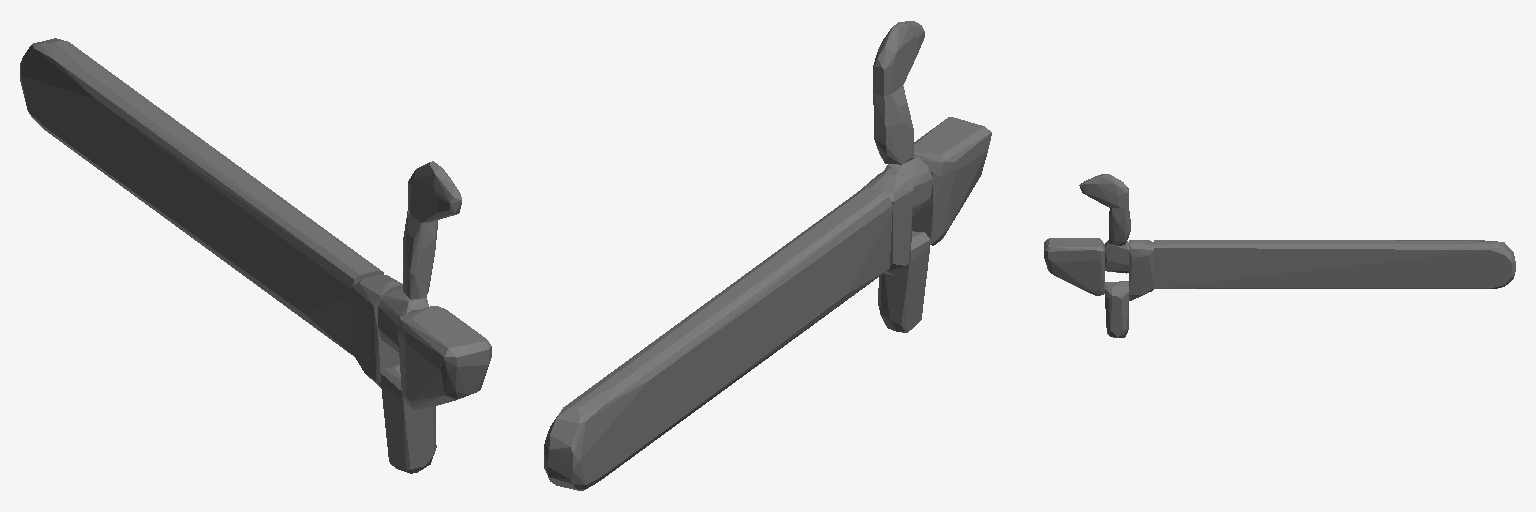
URDF robot description (wrench_007):
<?xml version="1.0" ?>
<robot name="wrench_007">
  <material name="color">
    <color rgba=".5 .5 .5 1"/>
  </material>

  <link name="base_link">
    <contact>
      <lateral_friction value="1.0"/>
      <rolling_friction value="0.001"/>
      <spinning_friction value="0.001"/>
      <inertia_scaling value="1.0"/>
    </contact>
    <inertial>
      <origin rpy="0 0 0" xyz="0.00054258 -0.00864907 -0.00467335"/>
       <mass value="0.1"/>
       <inertia ixx="1" ixy="0" ixz="0" iyy="1" iyz="0" izz="1"/>
    </inertial>

    <visual>
      <origin rpy="0 0 0" xyz="0 0 0"/>
      <geometry>
        <mesh filename="wrench_007_vhacd_0_of_7.obj" scale="1 1 1"/>
      </geometry>
      <material name="color"/>
    </visual>
    <visual>
      <origin rpy="0 0 0" xyz="0 0 0"/>
      <geometry>
        <mesh filename="wrench_007_vhacd_1_of_7.obj" scale="1 1 1"/>
      </geometry>
      <material name="color"/>
    </visual>
    <visual>
      <origin rpy="0 0 0" xyz="0 0 0"/>
      <geometry>
        <mesh filename="wrench_007_vhacd_2_of_7.obj" scale="1 1 1"/>
      </geometry>
      <material name="color"/>
    </visual>
    <visual>
      <origin rpy="0 0 0" xyz="0 0 0"/>
      <geometry>
        <mesh filename="wrench_007_vhacd_3_of_7.obj" scale="1 1 1"/>
      </geometry>
      <material name="color"/>
    </visual>
    <visual>
      <origin rpy="0 0 0" xyz="0 0 0"/>
      <geometry>
        <mesh filename="wrench_007_vhacd_4_of_7.obj" scale="1 1 1"/>
      </geometry>
      <material name="color"/>
    </visual>
    <visual>
      <origin rpy="0 0 0" xyz="0 0 0"/>
      <geometry>
        <mesh filename="wrench_007_vhacd_5_of_7.obj" scale="1 1 1"/>
      </geometry>
      <material name="color"/>
    </visual>
    <visual>
      <origin rpy="0 0 0" xyz="0 0 0"/>
      <geometry>
        <mesh filename="wrench_007_vhacd_6_of_7.obj" scale="1 1 1"/>
      </geometry>
      <material name="color"/>
    </visual>

    <collision>
      <origin rpy="0 0 0" xyz="0 0 0"/>
      <geometry>
        <mesh filename="wrench_007_vhacd_0_of_7.obj" scale="1 1 1"/>
      </geometry>
    </collision>
    <collision>
      <origin rpy="0 0 0" xyz="0 0 0"/>
      <geometry>
        <mesh filename="wrench_007_vhacd_1_of_7.obj" scale="1 1 1"/>
      </geometry>
    </collision>
    <collision>
      <origin rpy="0 0 0" xyz="0 0 0"/>
      <geometry>
        <mesh filename="wrench_007_vhacd_2_of_7.obj" scale="1 1 1"/>
      </geometry>
    </collision>
    <collision>
      <origin rpy="0 0 0" xyz="0 0 0"/>
      <geometry>
        <mesh filename="wrench_007_vhacd_3_of_7.obj" scale="1 1 1"/>
      </geometry>
    </collision>
    <collision>
      <origin rpy="0 0 0" xyz="0 0 0"/>
      <geometry>
        <mesh filename="wrench_007_vhacd_4_of_7.obj" scale="1 1 1"/>
      </geometry>
    </collision>
    <collision>
      <origin rpy="0 0 0" xyz="0 0 0"/>
      <geometry>
        <mesh filename="wrench_007_vhacd_5_of_7.obj" scale="1 1 1"/>
      </geometry>
    </collision>
    <collision>
      <origin rpy="0 0 0" xyz="0 0 0"/>
      <geometry>
        <mesh filename="wrench_007_vhacd_6_of_7.obj" scale="1 1 1"/>
      </geometry>
    </collision>

  </link>
</robot>

--- Facts derived from the render (not from the file) ---
3 views of the same robot in one strip: view 1: azimuth 30°, elevation 25°; view 2: azimuth 150°, elevation 25°; view 3: azimuth 270°, elevation 25° (orthographic).
Model wrench_007 with 1 links and 0 joints (none), rooted at base_link, posed all joints at 0.
Links seen in each view (by area): view 1: base_link; view 2: base_link; view 3: base_link.
Link boxes in pixels (x1,y1,x2,y2): base_link: (20, 38, 491, 473); base_link: (544, 21, 991, 490); base_link: (1044, 174, 1515, 337).
Size in the robot's own frame: 0.0127 by 0.1713 by 0.066 metres.
Meshes: 7 distinct files referenced, 7 mesh visuals loaded (7 OBJ).